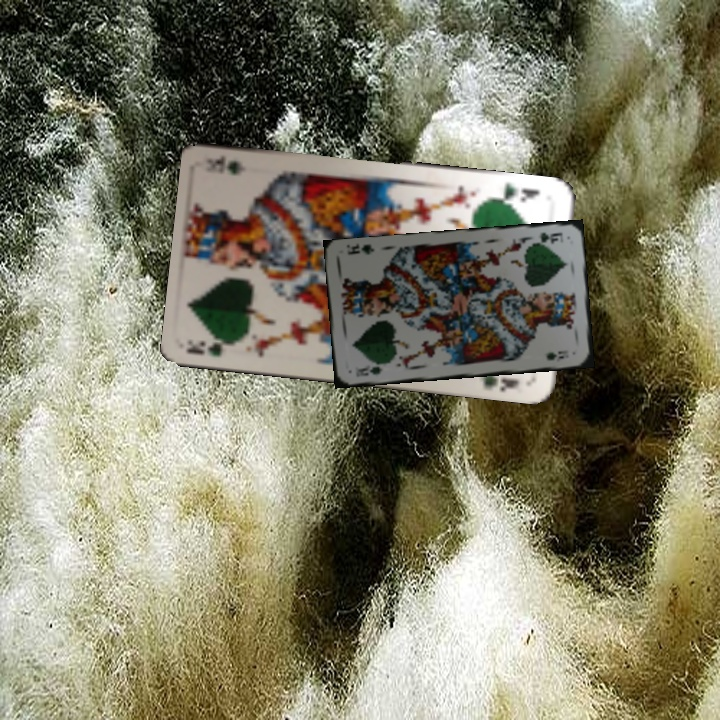GK: (185, 334, 245, 360), (493, 179, 542, 207), (351, 360, 389, 380), (528, 228, 565, 246)
